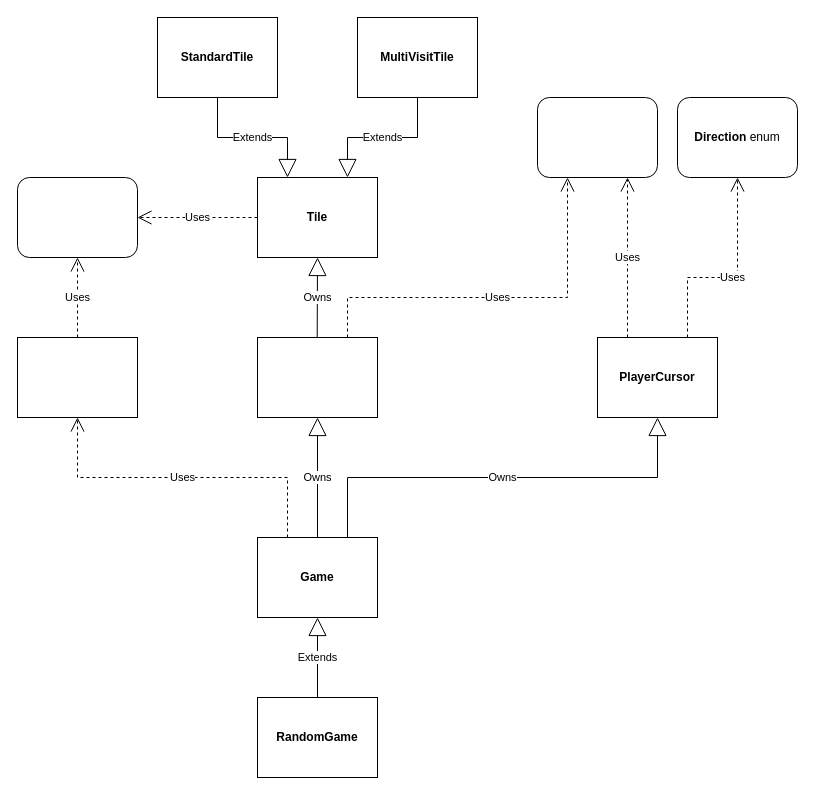
Image size: 815x795. Some labels were removed from this diagram. The shapes that lost their labels are listed below. From the top down, each one's centre as x and y in pixels, then its label:
the point at 597,137: Coords struct
the point at 77,217: TileType enum
the point at 77,377: LevelLoader
the point at 317,377: Grid
